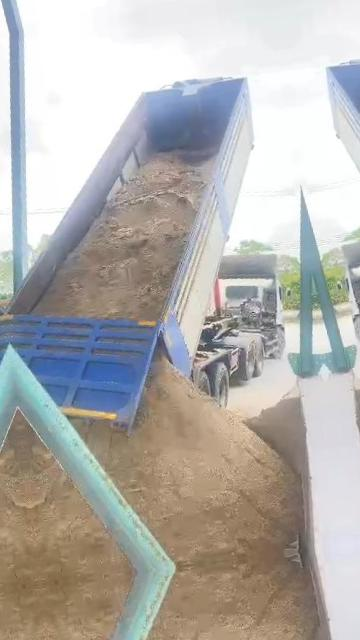sand: (74, 360, 302, 566), (34, 153, 211, 318), (19, 417, 130, 583), (246, 388, 305, 472)
